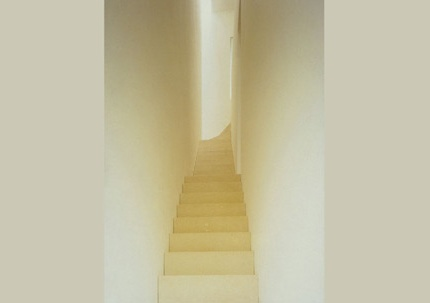stairs_up: (165, 136, 255, 303)
